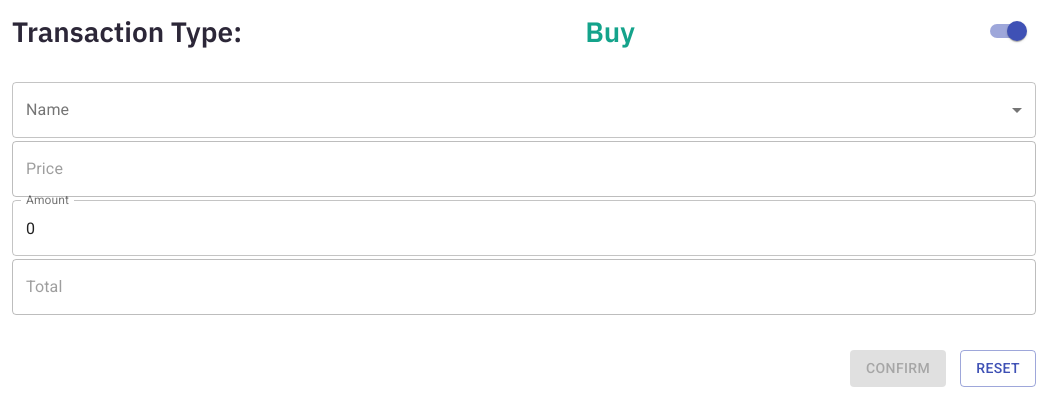
Test: Transaction › when choose currency type › should display its price
The image size is (1048, 404).
Replace the text in the field with test id "currencyName" with "BTC" at (524, 110), box [12,82,1036,138]
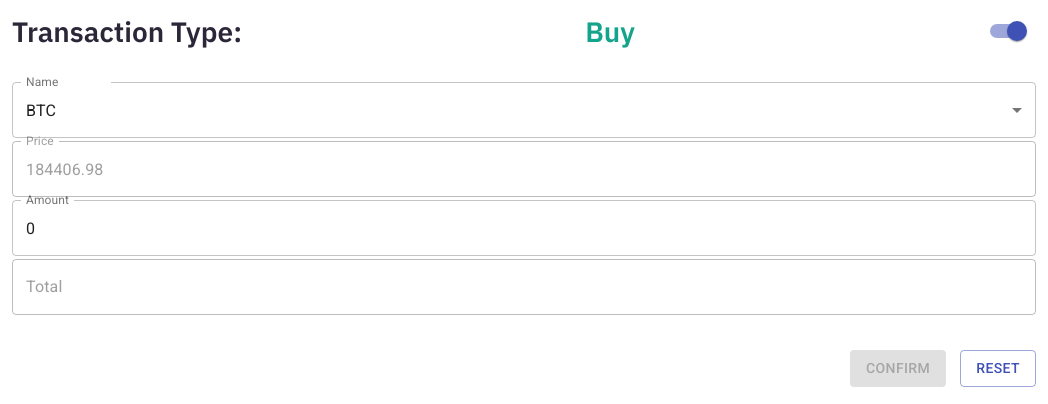
Now the field labelled "Price" holds "184406.98", box [12,141,1036,197]
